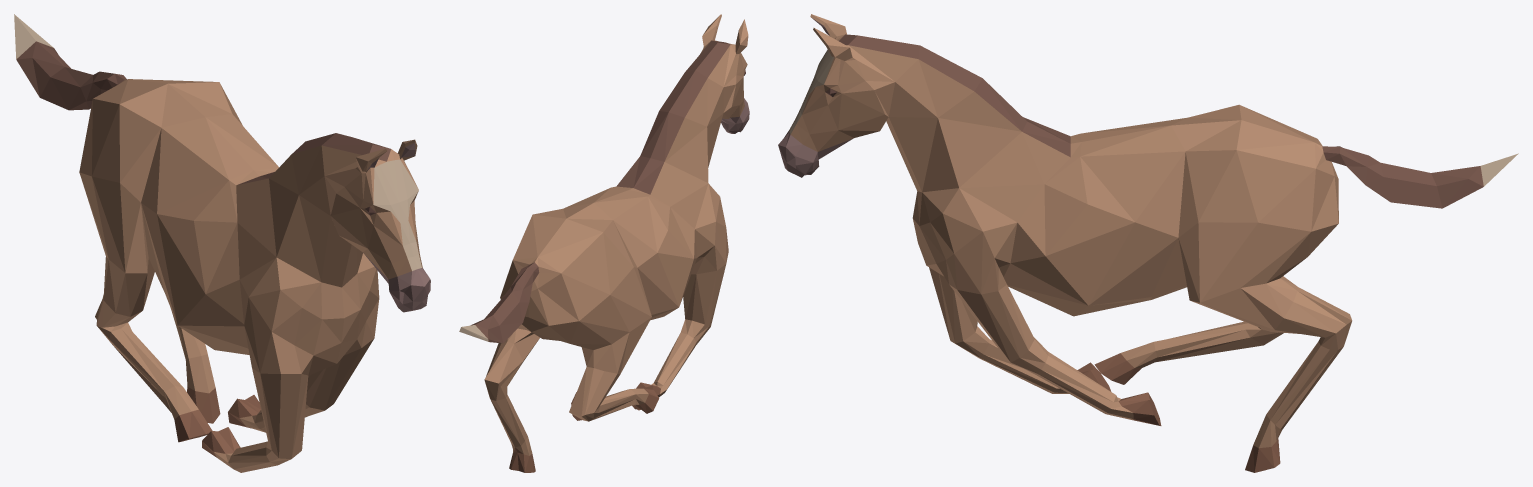
Rendered from Horse.glb.
3 renders of one model, left to right at view 1: azimuth 30°, elevation 25°; view 2: azimuth 150°, elevation 25°; view 3: azimuth 270°, elevation 25°, orthographic. The views are drawn at different scales.
Visible parts, largest first — view 1: mesh_0; view 2: mesh_0; view 3: mesh_0.
Boxes of the visible parts, left/top/right/bottom form: mesh_0: left=14, top=14, right=430, bottom=472; mesh_0: left=459, top=14, right=749, bottom=472; mesh_0: left=778, top=14, right=1518, bottom=472.
Size of the model in its own units: 65.97 by 178 by 278.
